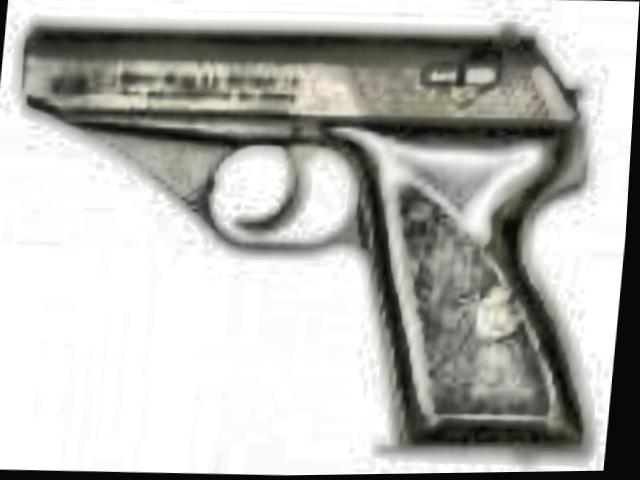pistol: (0, 6, 631, 466)
